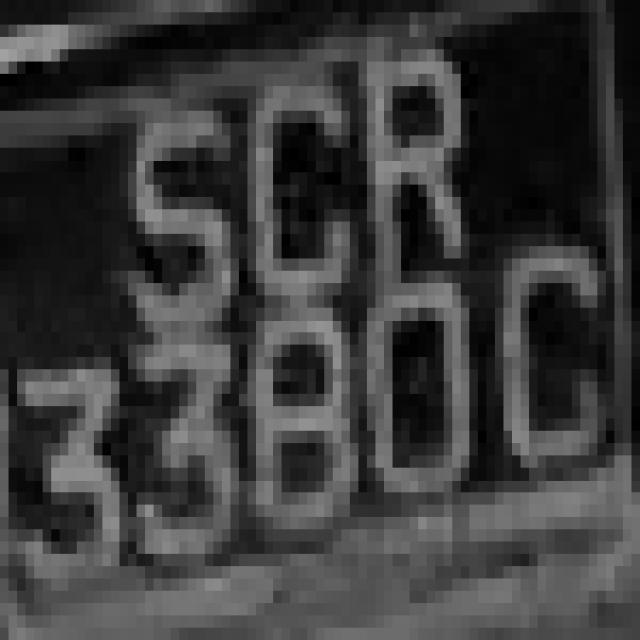0: (358, 246, 486, 542)
3: (119, 308, 256, 603), (17, 320, 137, 615)
8: (213, 283, 367, 566)
C: (486, 209, 614, 517), (239, 62, 367, 320)
R: (350, 12, 478, 308)
S: (102, 98, 239, 344)
